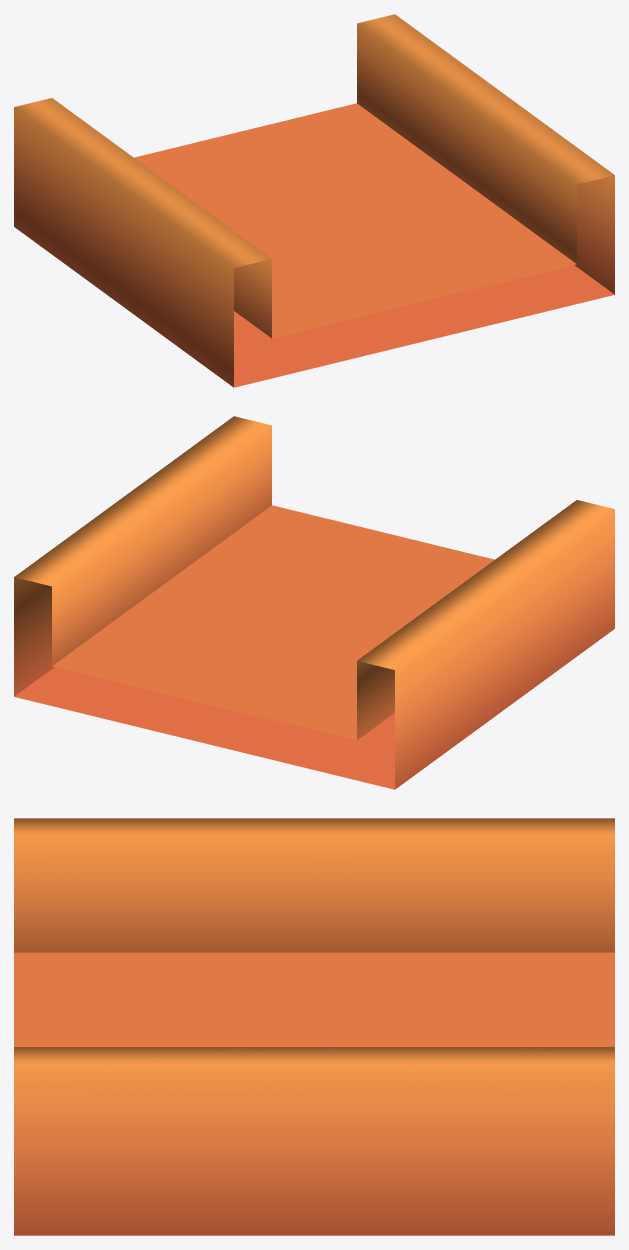
File: track-narrow.glb
3 views of the same model, one above another, from view 1: azimuth 30°, elevation 25°; view 2: azimuth 150°, elevation 25°; view 3: azimuth 270°, elevation 25° (orthographic). The views are drawn at different scales.
Visible parts, largest first — view 1: track-narrow; view 2: track-narrow; view 3: track-narrow.
Boxes of the visible parts, x1=… form: track-narrow: x1=14, y1=14, x2=614, y2=387; track-narrow: x1=14, y1=416, x2=614, y2=789; track-narrow: x1=14, y1=818, x2=614, y2=1235.
Bounding box in the file's own units: 1 × 0.3 × 1.
Materials: 1 (1 with a texture image).
